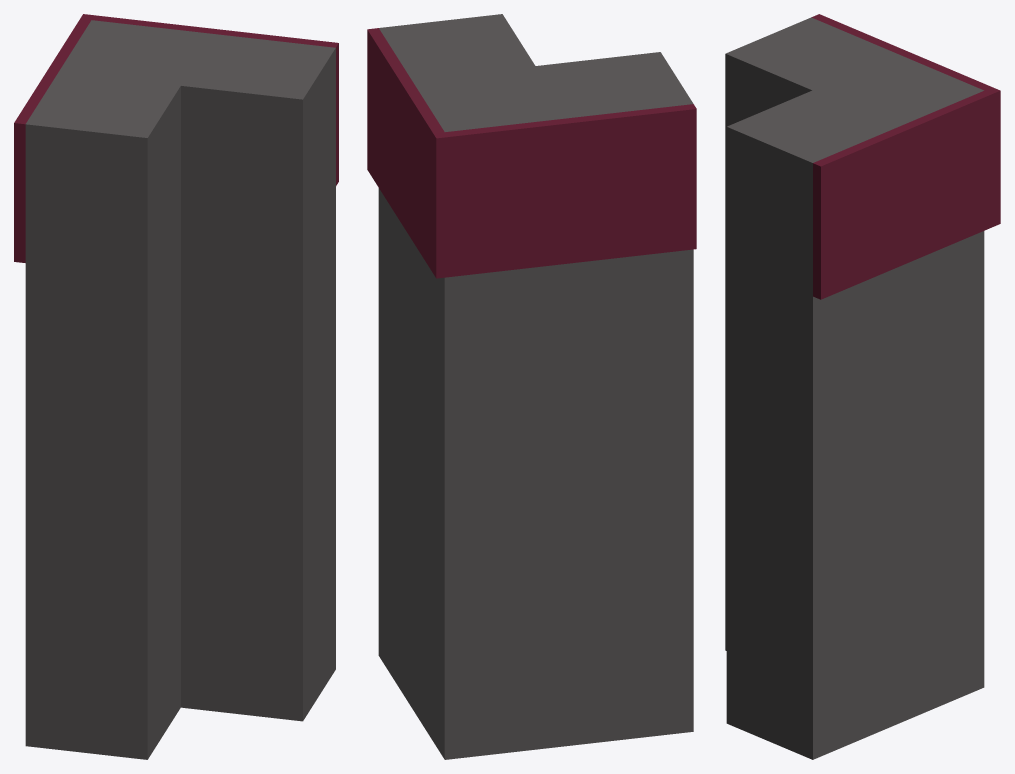
The model's file is ground_floor_pillar_CV_0.5m.fbx.
3 renders of one model, left to right at view 1: azimuth 30°, elevation 25°; view 2: azimuth 150°, elevation 25°; view 3: azimuth 270°, elevation 25°, orthographic. The views are drawn at different scales.
Visible parts, largest first — view 1: ground_floor_pillar_CV_0.5m; view 2: ground_floor_pillar_CV_0.5m; view 3: ground_floor_pillar_CV_0.5m.
Part boxes in pixels (box(x1,y1,x2,y2)): ground_floor_pillar_CV_0.5m: box(14, 14, 338, 759); ground_floor_pillar_CV_0.5m: box(367, 14, 696, 759); ground_floor_pillar_CV_0.5m: box(725, 14, 1000, 759).
Size of the model in its own units: 164 by 300 by 125.
